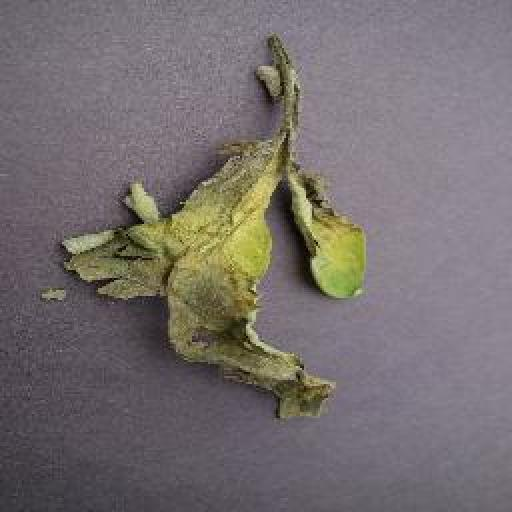disease_tomato: (57, 36, 368, 420)
